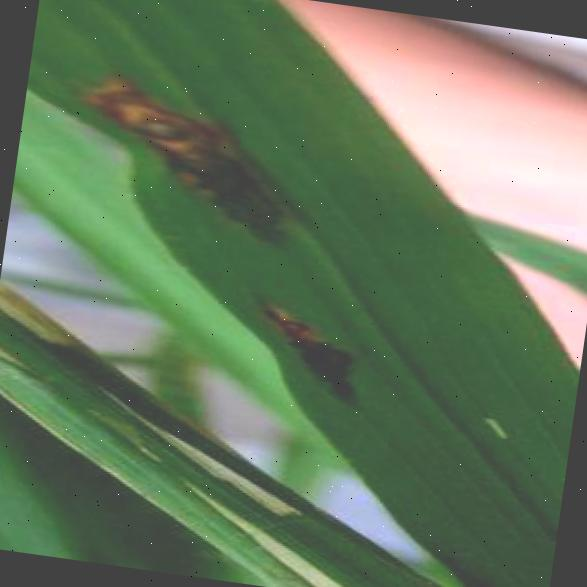Leaf_smut: (71, 71, 306, 256), (233, 270, 377, 417)
